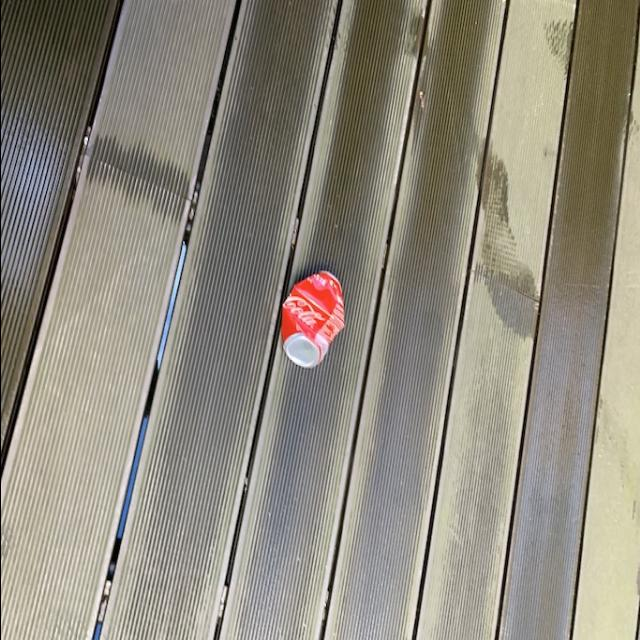Aluminum Can: (276, 262, 346, 376)
